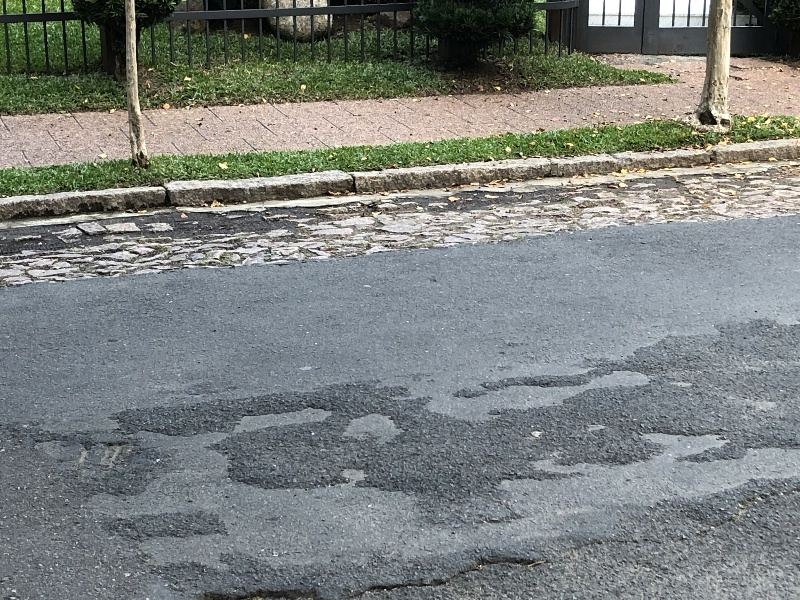v34: (5, 93, 797, 246)
